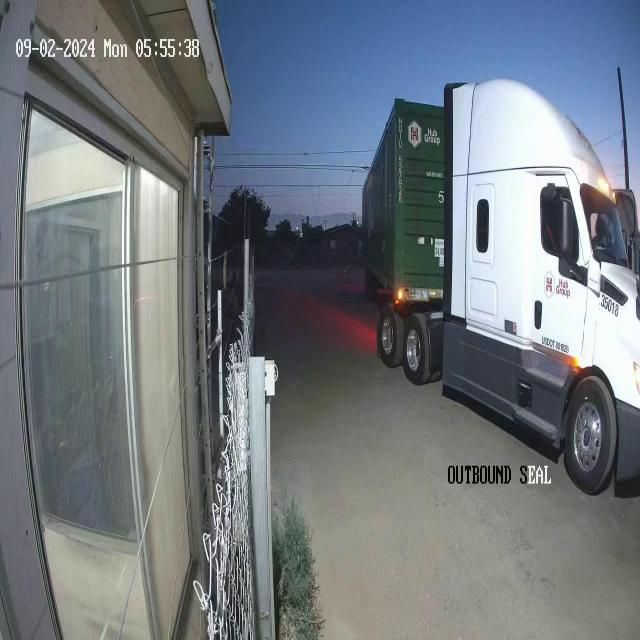TRUCK_IN: (362, 69, 640, 496)
